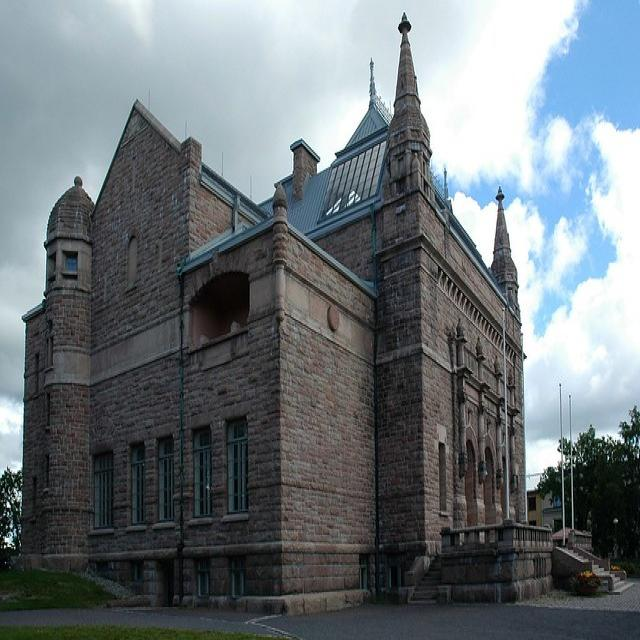Normal_building: (19, 11, 560, 614)
